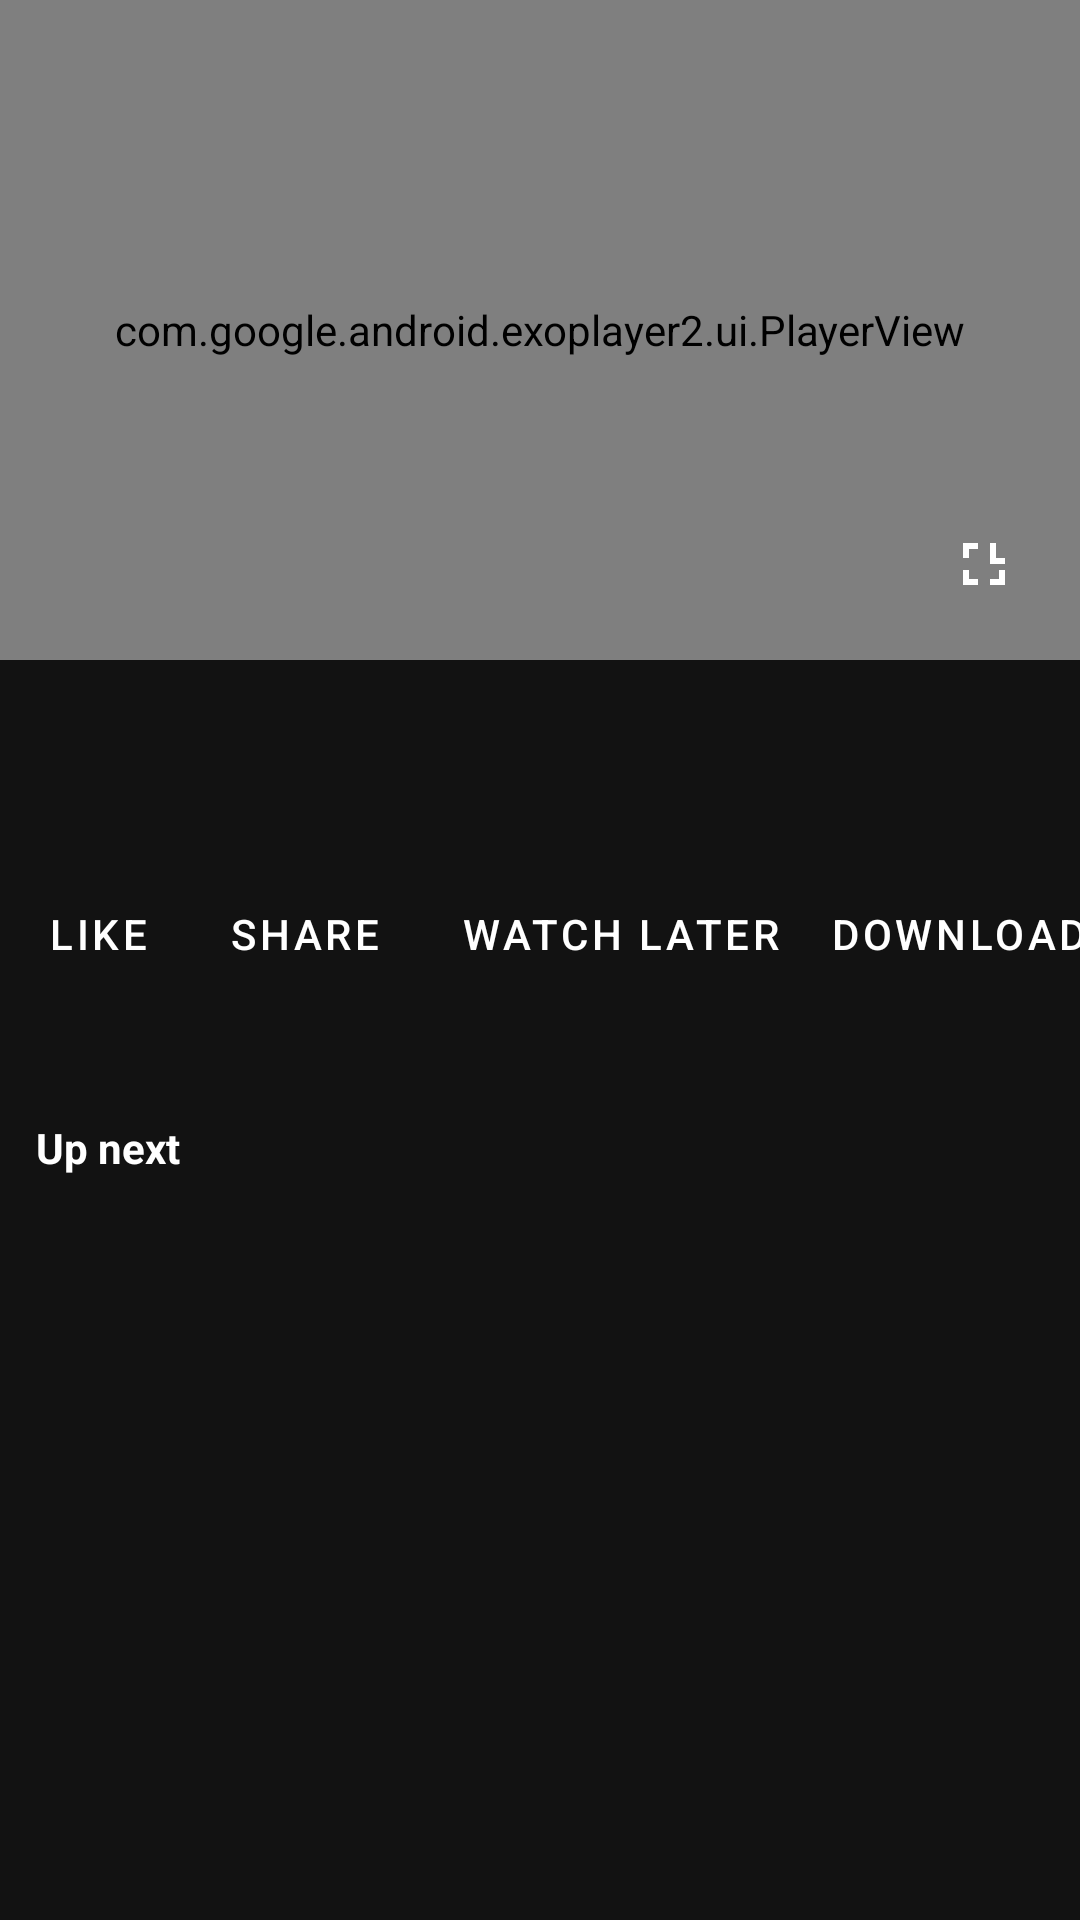

Named icons in this screenshot (1080*1920) and their centers, (x=x, y=y):
Fullscreen: (x=984, y=564)
